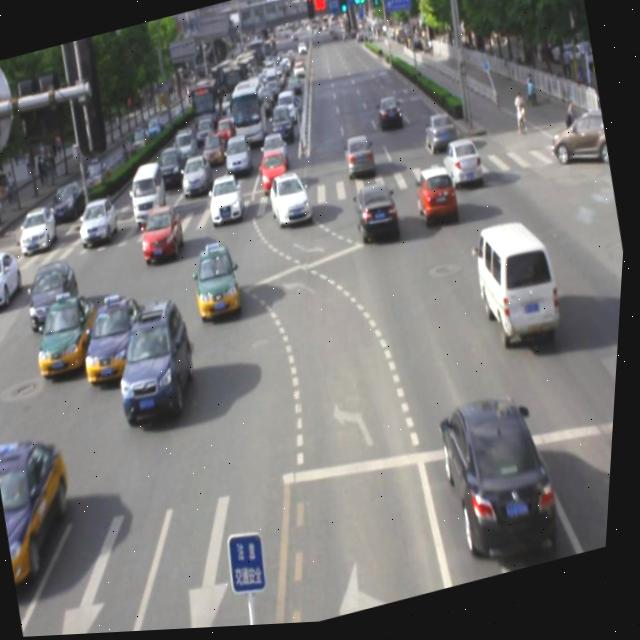car: (436, 388, 572, 573), (0, 426, 92, 585), (108, 295, 210, 429), (75, 290, 159, 389), (31, 289, 112, 383), (188, 241, 251, 328), (350, 180, 405, 247), (136, 201, 190, 267), (413, 166, 465, 232), (265, 169, 316, 231), (440, 139, 488, 195), (204, 172, 248, 228)
truck: (468, 217, 570, 356)
